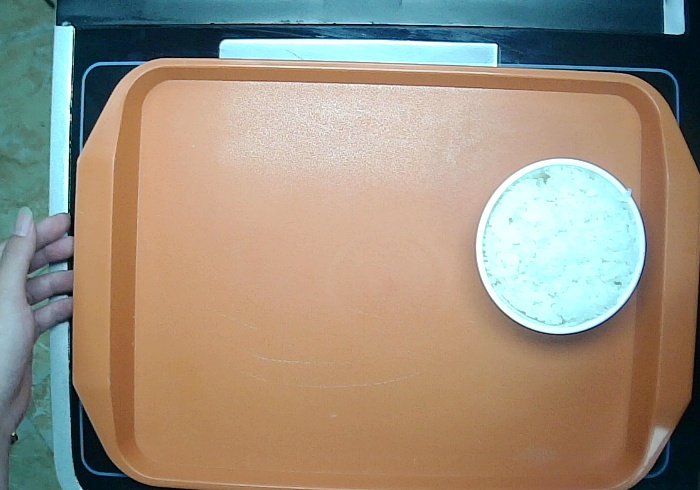HZYJPL-Fan_Wan: (466, 151, 660, 348)
